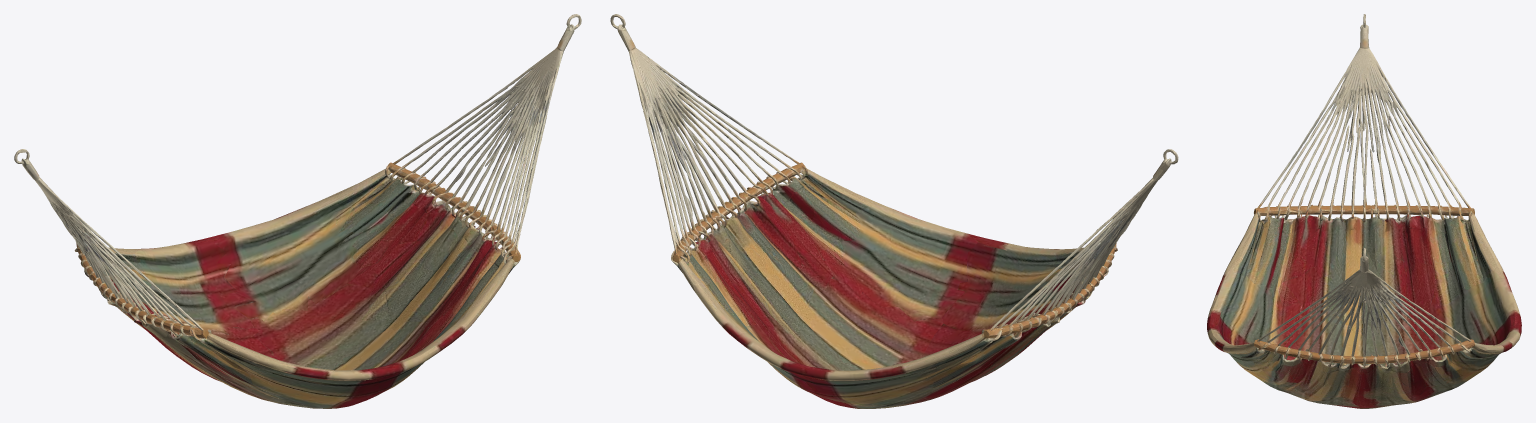
File: hamaca.glb
3 views of the same model, side by side, from view 1: azimuth 30°, elevation 25°; view 2: azimuth 150°, elevation 25°; view 3: azimuth 270°, elevation 25° (orthographic). The views are drawn at different scales.
Size of the model in its own units: 1.9 by 0.992 by 1.05.
Materials: 1 (1 with a texture image).
